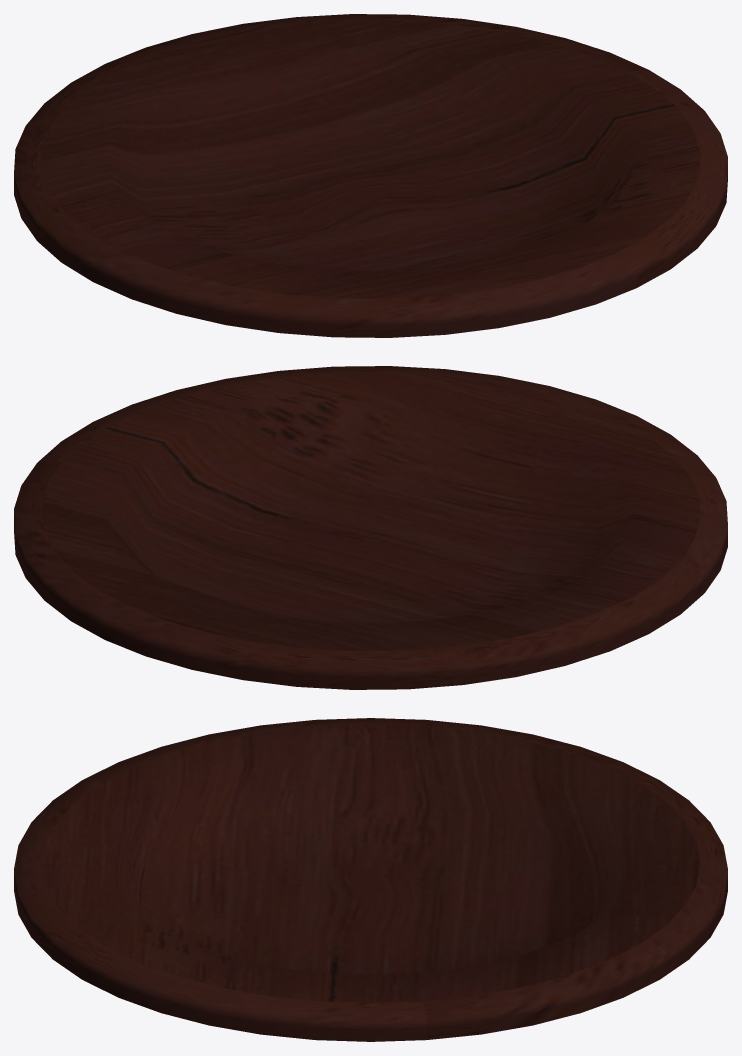
The model's file is platewithtexture2.fbx.
3 views of the same model, one above another, from view 1: azimuth 30°, elevation 25°; view 2: azimuth 150°, elevation 25°; view 3: azimuth 270°, elevation 25° (orthographic).
Visible parts, largest first — view 1: pCylinder1; view 2: pCylinder1; view 3: pCylinder1.
Boxes of the visible parts, x1=… form: pCylinder1: x1=14, y1=14, x2=727, y2=337; pCylinder1: x1=14, y1=366, x2=727, y2=689; pCylinder1: x1=14, y1=718, x2=727, y2=1041.
Bounding box in the file's own units: 381 × 40.25 × 381.
Materials: 1 (1 with a texture image).
